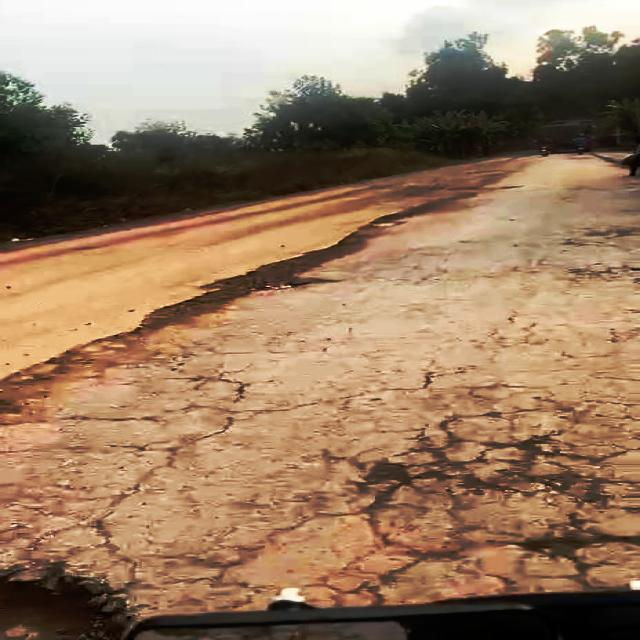pothole: (0, 552, 135, 640)
